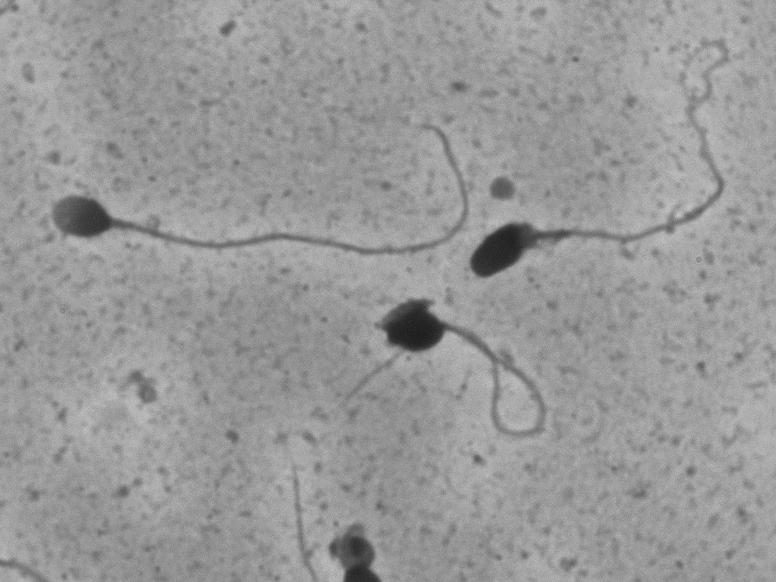Abnormal: (456, 24, 739, 282), (332, 289, 568, 468)
Normal: (25, 106, 482, 267)
